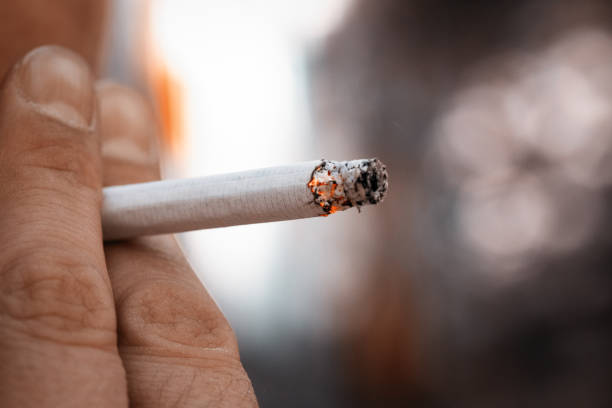cigarette: (96, 151, 388, 244)
